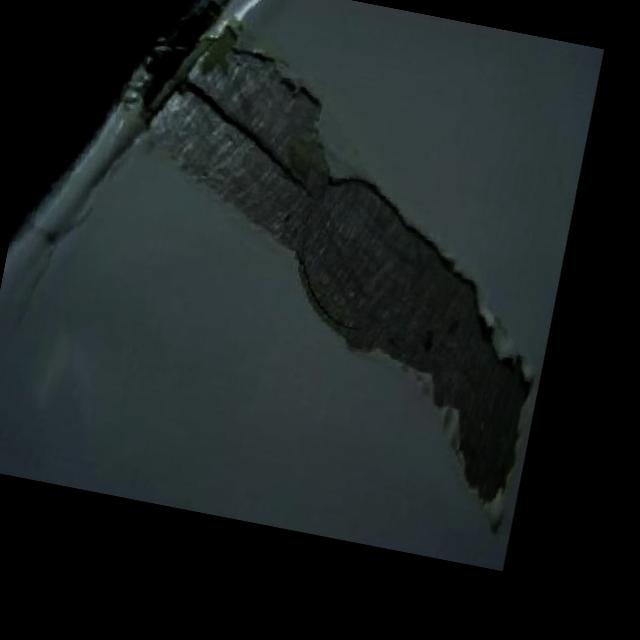crack: (234, 130, 320, 192), (185, 83, 251, 130)
